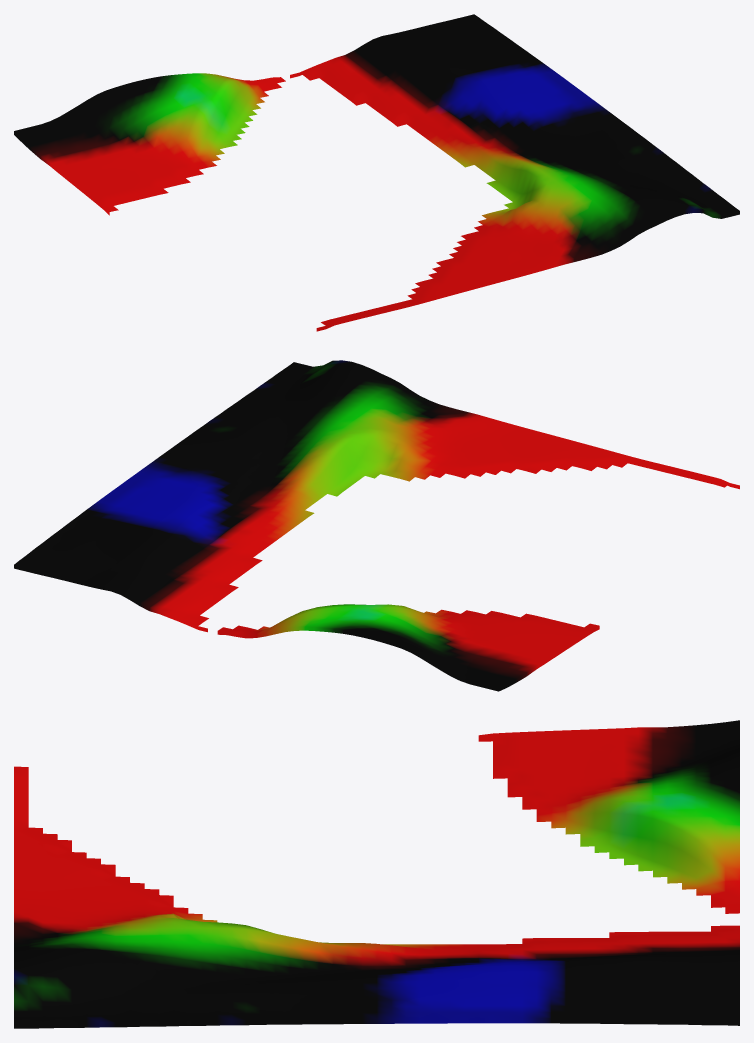
File: coast_10_9.glb
3 renders of one model, top to bottom at view 1: azimuth 30°, elevation 25°; view 2: azimuth 150°, elevation 25°; view 3: azimuth 270°, elevation 25°, orthographic. The views are drawn at different scales.
Parts seen in each view (by area): view 1: terrain; view 2: terrain; view 3: terrain.
Boxes of the visible parts, left/top/right/bottom form: terrain: left=14, top=14, right=739, bottom=331; terrain: left=14, top=360, right=739, bottom=691; terrain: left=14, top=720, right=739, bottom=1028.
Size of the model in its own units: 200 by 14.49 by 200.
